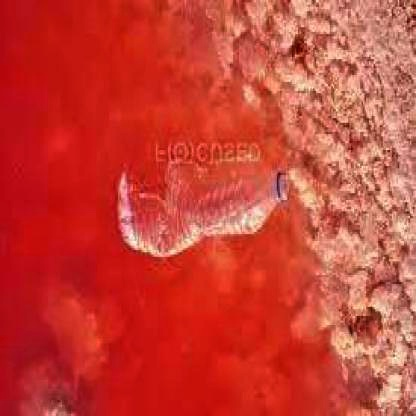pbottle: (106, 146, 298, 250)
